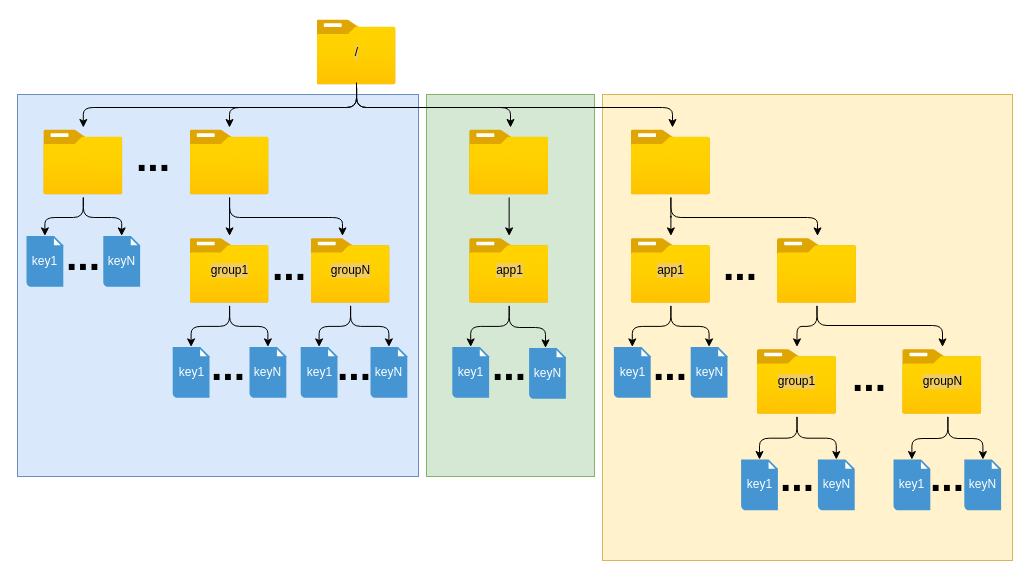
Some shapes in this 1030 by 578 pixel diagram are drawn without their labels. Each missing label, with the box of its shape:
appN: (777, 235, 856, 305)
Global keys: (16, 94, 418, 476)
global_app1: (43, 127, 122, 197)
global_appN: (190, 127, 268, 197)
production: (469, 127, 548, 197)
Puppet 'production' environment keys: (426, 94, 594, 476)
Puppet 'test' environment keys: (602, 94, 1012, 560)
test: (631, 127, 710, 197)
